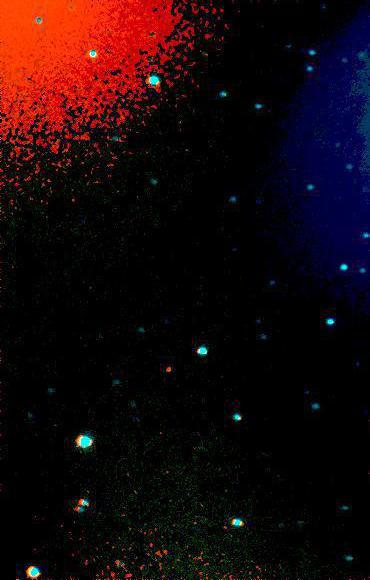star: (153, 355, 183, 385)
